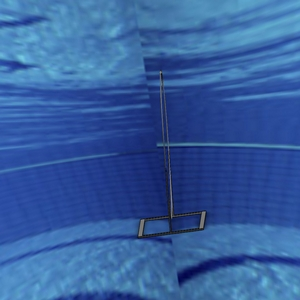circle: (133, 71, 207, 239)
